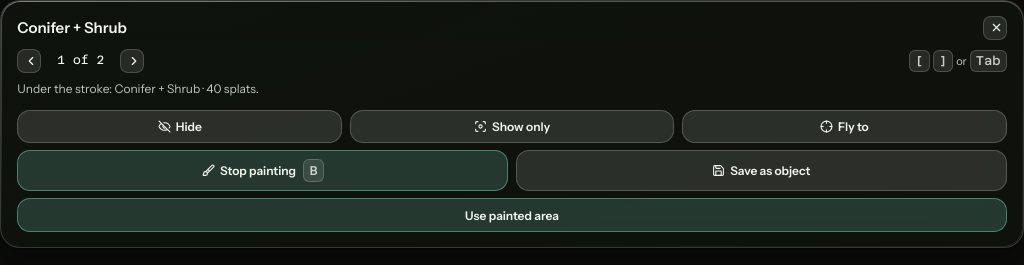
it: the object card › names the objects a stroke fell on, says them as it is painted, and steps down to their parts
Expected: the text with test id "object-paint-hint" reads "Under the stroke: Conifer + Shrub · 40 splats.", top-left (17, 81), bottom-right (259, 96)
Expected: the message with test id "object-label" reads "Conifer + Shrub", top-left (17, 18), bottom-right (127, 37)
# `[` (the previous candidate): the parts painted, as one.
Click the button named "Previous candidate" at (29, 61), box top-left (17, 49), bottom-right (41, 73)
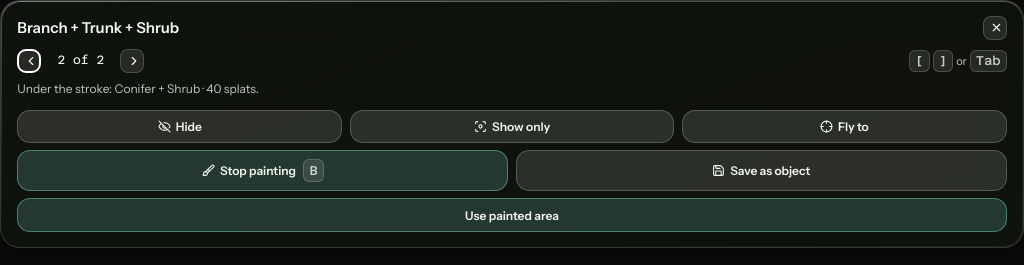
Result: the message with test id "object-label" reads "Branch + Trunk + Shrub" at top-left (17, 18), bottom-right (179, 37)
Result: the text with test id "object-candidates" reads "2 of 2" at top-left (57, 53), bottom-right (104, 67)
Click the button named "Next candidate" at (132, 61), box top-left (120, 49), bottom-right (144, 73)
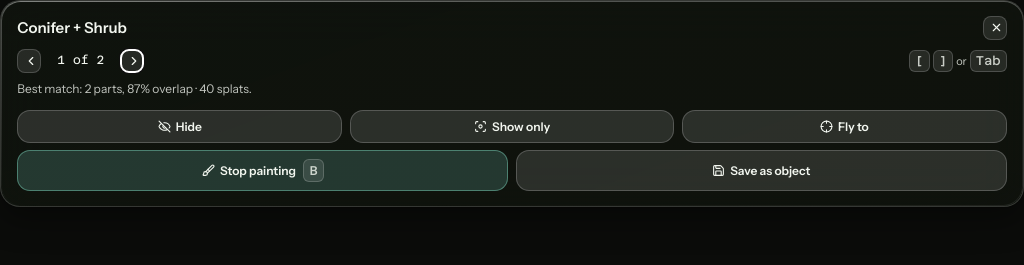
Result: the message with test id "object-label" reads "Conifer + Shrub" at top-left (17, 18), bottom-right (127, 37)
Result: the text with test id "object-paint-hint" reads "Best match: 2 parts, 87% overlap · 40 splats." at top-left (17, 81), bottom-right (252, 96)
